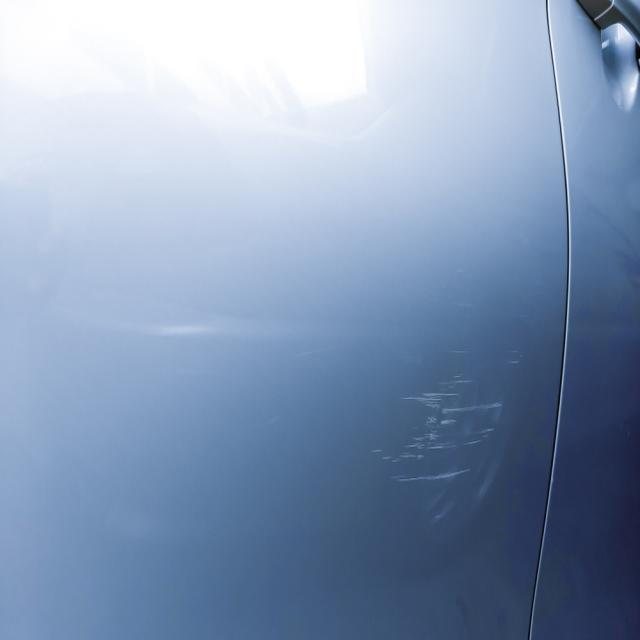scratch: (370, 270, 527, 523)
